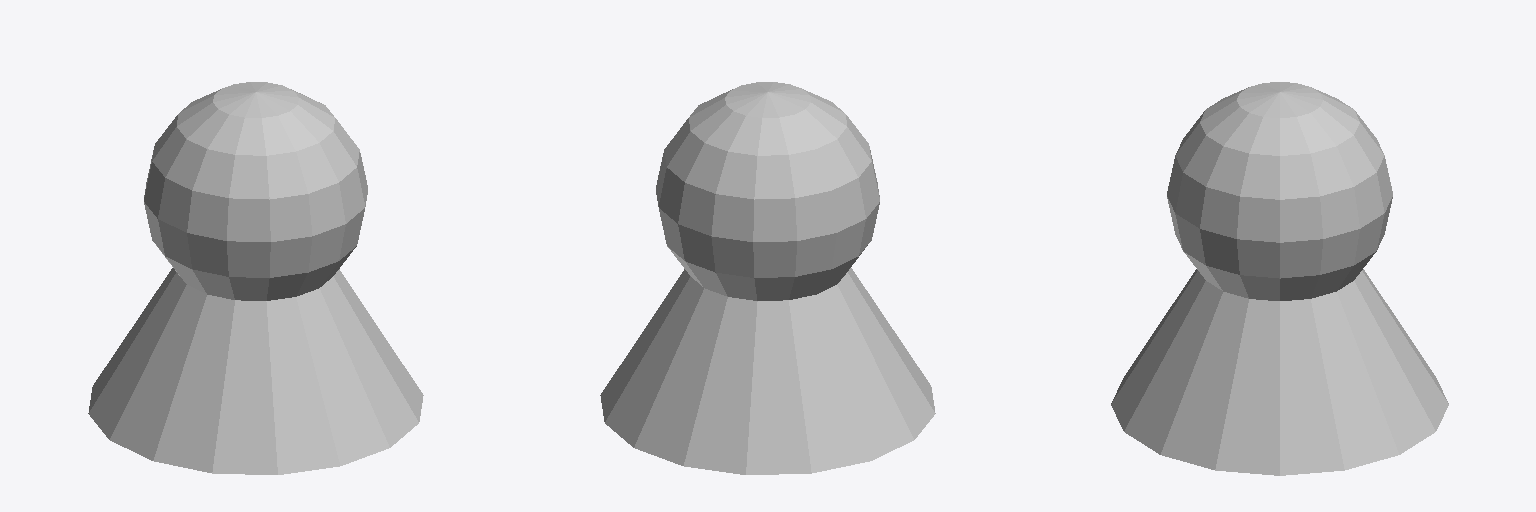
Rendered from NozzleBox.obj.
The picture shows the model from 3 angles: view 1: azimuth 30°, elevation 25°; view 2: azimuth 150°, elevation 25°; view 3: azimuth 270°, elevation 25°; orthographic projection.
Visible parts, largest first — view 1: Sphere.003; view 2: Sphere.003; view 3: Sphere.003.
Part boxes in pixels (bbox=[...]): Sphere.003: bbox=[88, 82, 423, 474]; Sphere.003: bbox=[600, 82, 935, 474]; Sphere.003: bbox=[1111, 82, 1448, 475].
Bounding box in the file's own units: 0.5207 × 0.5564 × 0.5207.